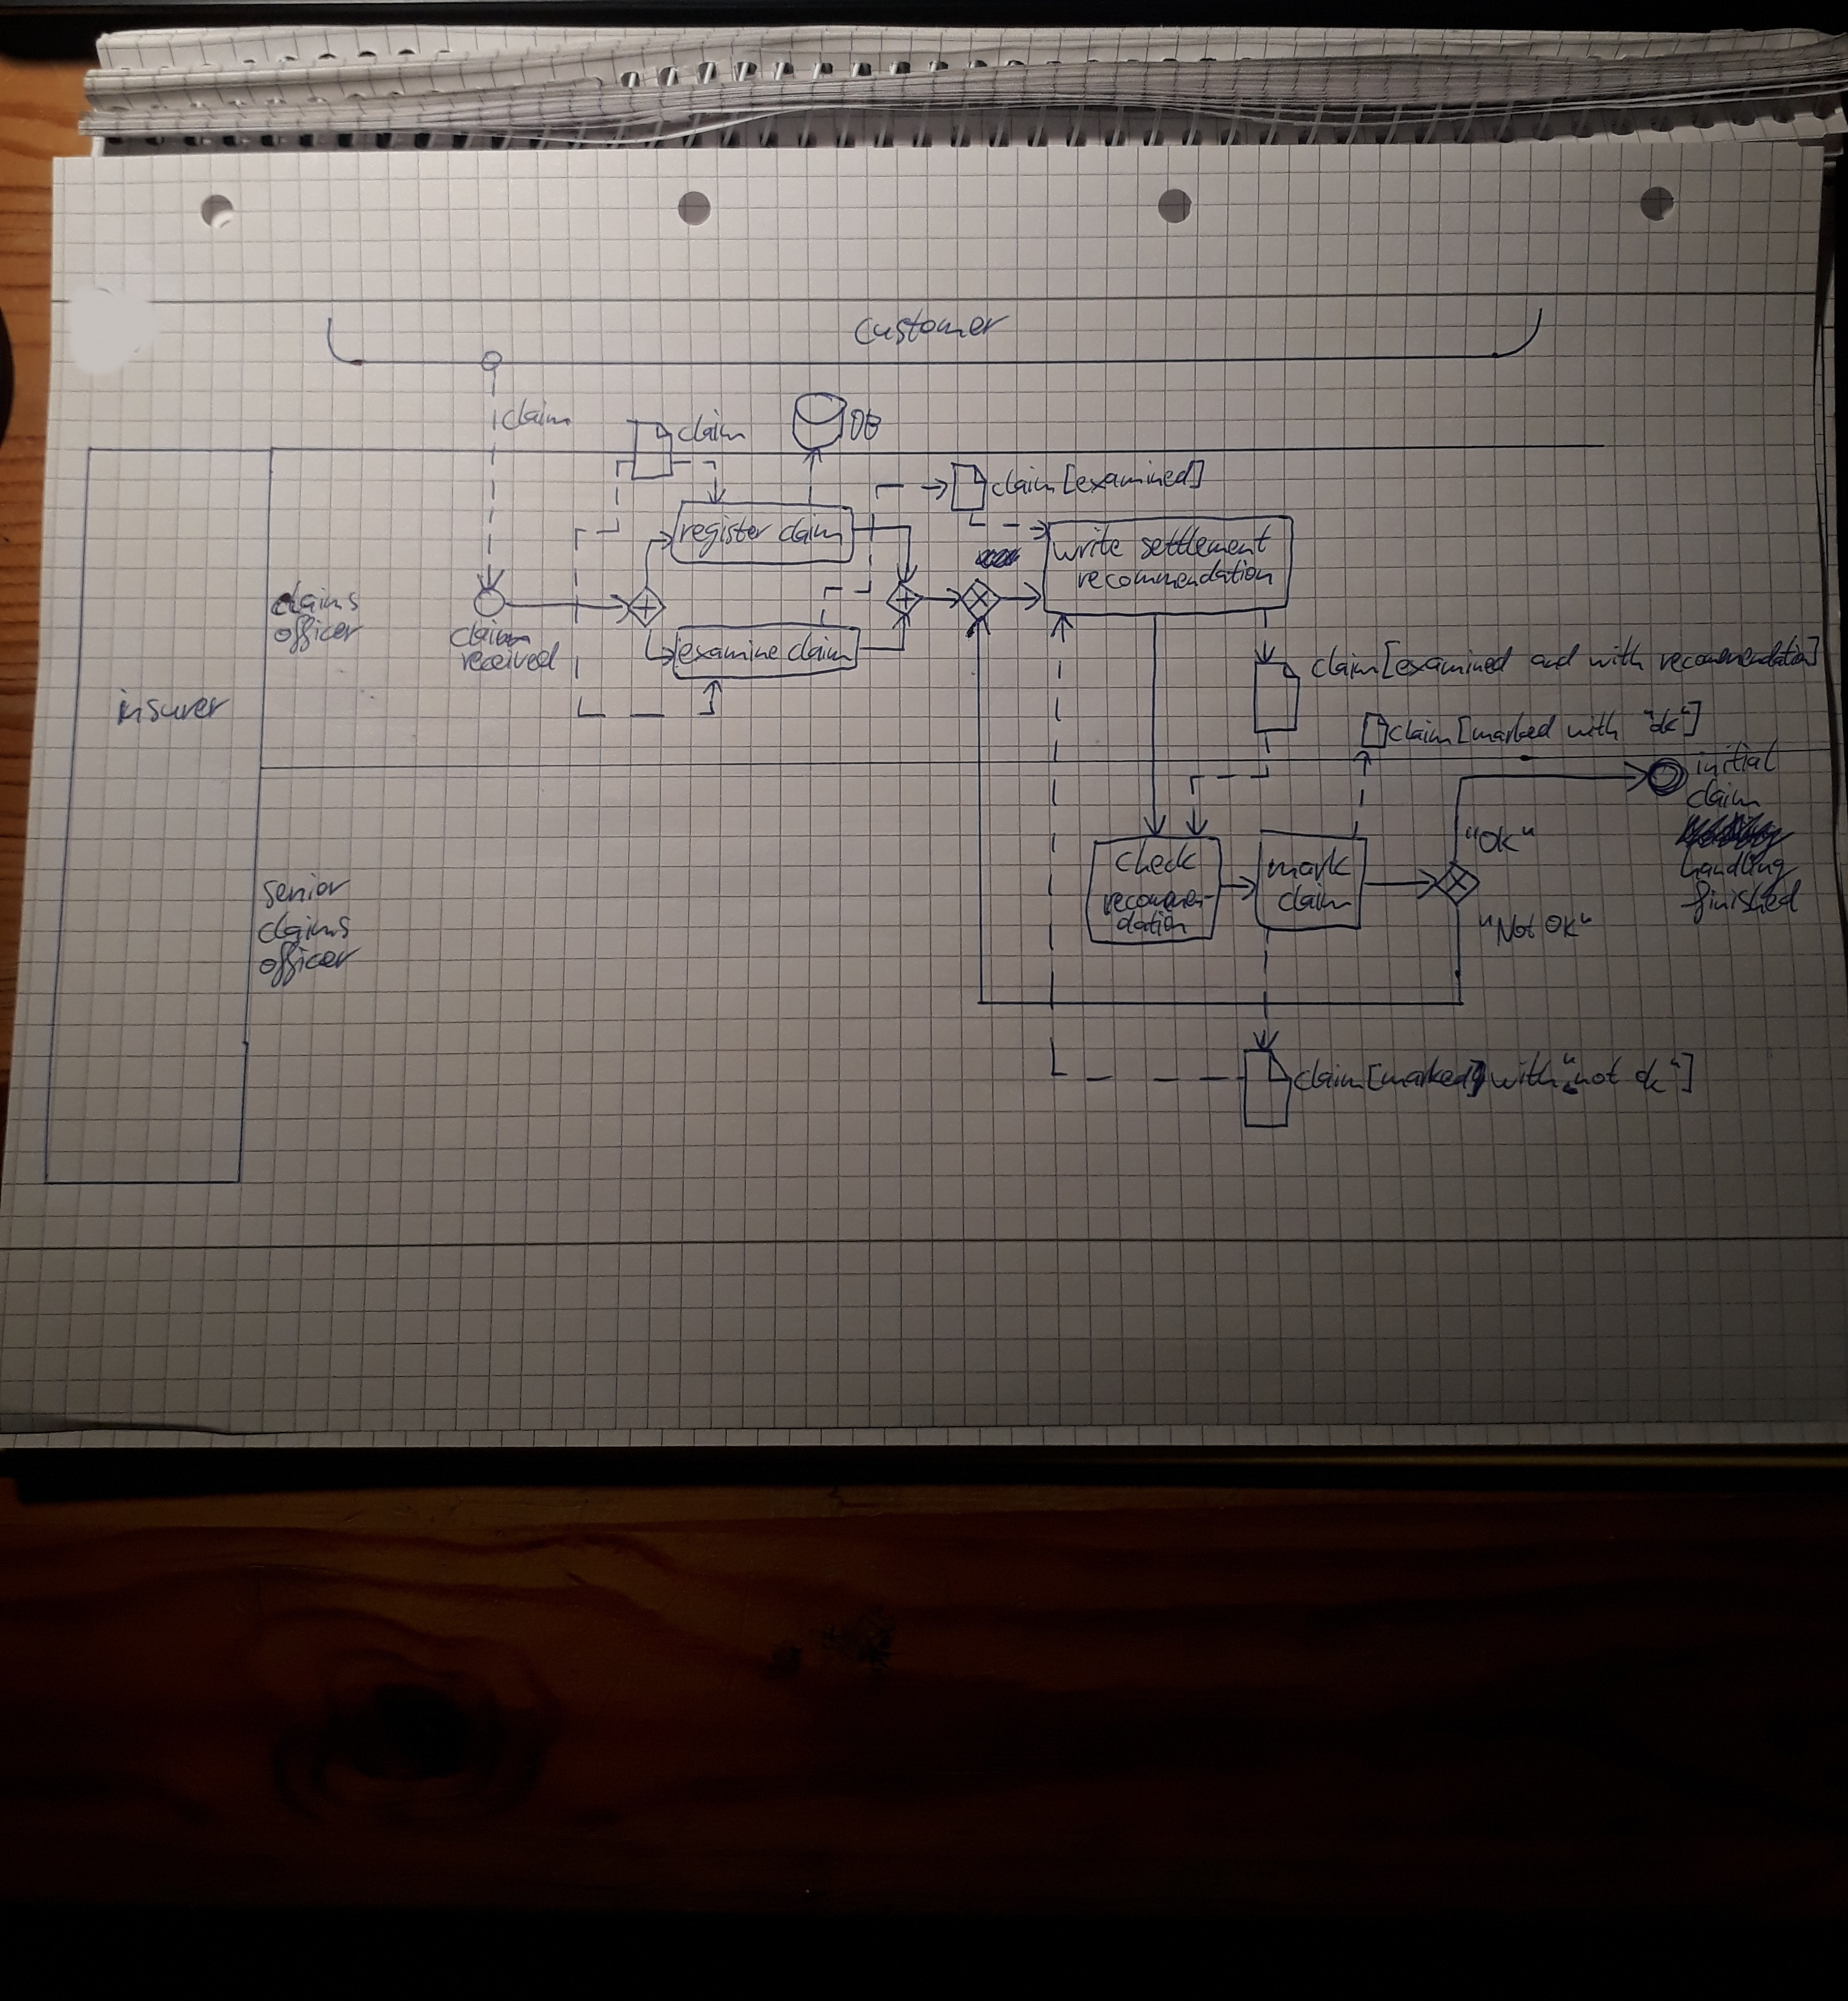DB: (846, 401, 884, 446)
Not: (1473, 910, 1541, 952)
OK: (1541, 908, 1597, 943)
Ok: (1461, 821, 1539, 859)
[examined: (1376, 636, 1518, 685)
[examined]: (1060, 457, 1210, 500)
[marked: (1452, 706, 1560, 750)
[marked]: (1362, 1051, 1492, 1103)
and: (1525, 638, 1586, 675)
check: (1111, 835, 1201, 880)
claim: (1287, 1055, 1370, 1096), (1306, 640, 1386, 683), (445, 615, 537, 652), (673, 406, 753, 448), (499, 396, 579, 438), (1274, 878, 1356, 919), (1682, 774, 1768, 812), (774, 509, 847, 553), (1384, 713, 1457, 751), (783, 627, 856, 666), (987, 462, 1060, 500)
claims: (265, 575, 364, 621), (253, 906, 357, 948)
customer: (849, 303, 1015, 350)
dation: (1111, 906, 1192, 941)
examine: (673, 634, 783, 669)
finished: (1675, 875, 1806, 931)
handling: (1675, 842, 1804, 903)
initial: (1689, 732, 1783, 783)
insurer: (113, 682, 235, 732)
mark: (1262, 842, 1356, 885)
not: (1557, 1048, 1628, 1089)
officer: (255, 936, 368, 992), (270, 610, 370, 659)
ok"]: (1630, 1048, 1698, 1098), (1639, 695, 1705, 743)
received: (455, 636, 565, 680)
recommen-: (1097, 884, 1220, 920)
recommendation: (1072, 556, 1278, 593)
recommendation]: (1654, 631, 1825, 680)
register: (675, 511, 778, 561)
senior: (258, 868, 356, 915)
settlement: (1135, 519, 1278, 563)
with: (1485, 1046, 1566, 1095), (1585, 629, 1648, 676), (1562, 704, 1625, 746)
write: (1048, 519, 1128, 566)
